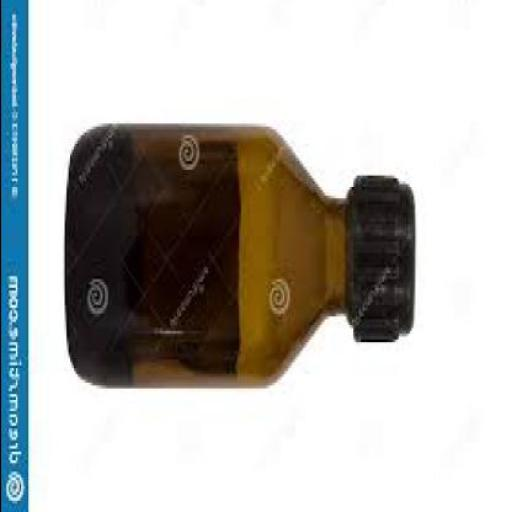glass: (63, 129, 349, 394)
plastic: (346, 178, 418, 345)
